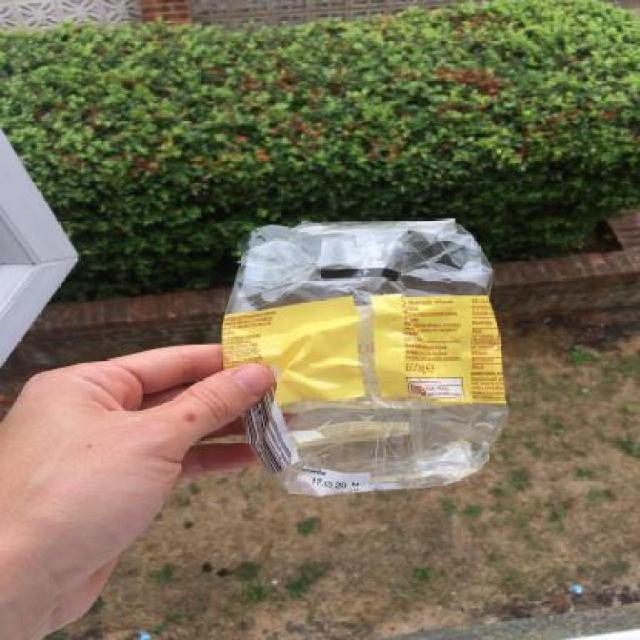Garbage: (222, 218, 509, 496)
